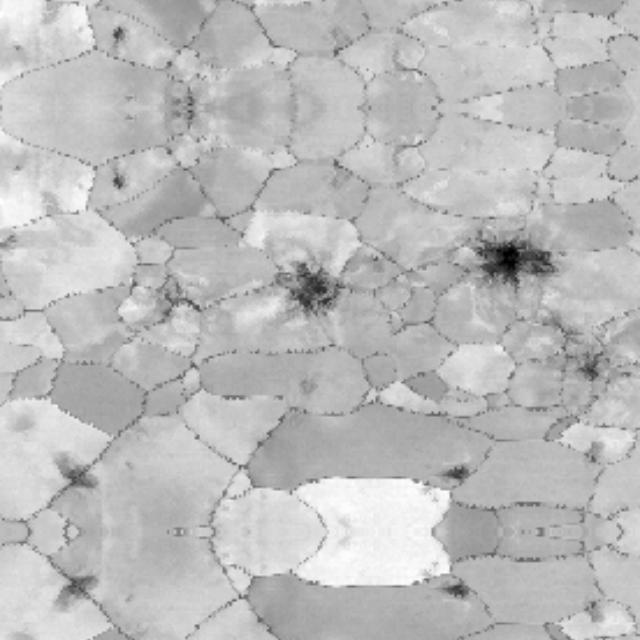good_void: (460, 235, 562, 288), (131, 269, 210, 333), (272, 260, 334, 323), (51, 443, 106, 499), (51, 567, 106, 623), (568, 350, 606, 390), (440, 457, 479, 494), (440, 572, 479, 609), (107, 166, 140, 200), (107, 17, 140, 51), (580, 439, 613, 467), (580, 599, 613, 627), (293, 369, 320, 402)
